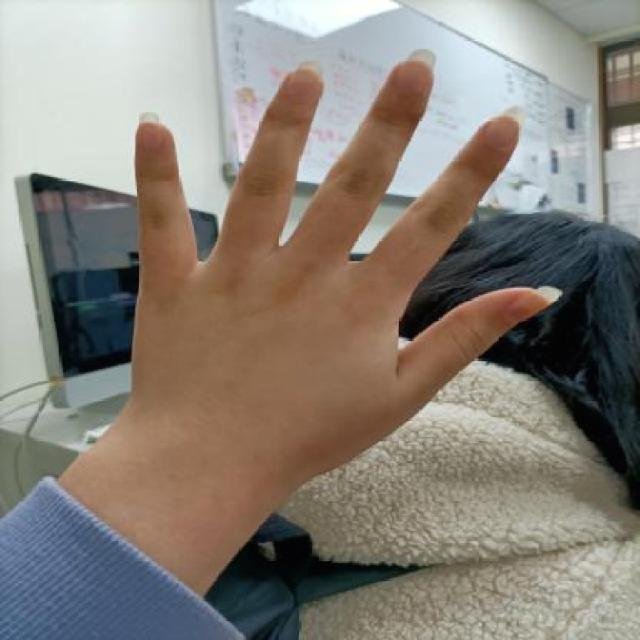no_glove: (111, 34, 580, 488)
